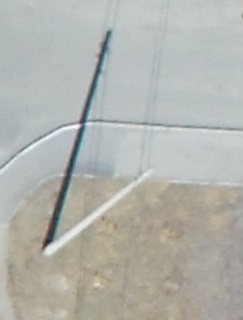opora: (41, 165, 157, 257)
